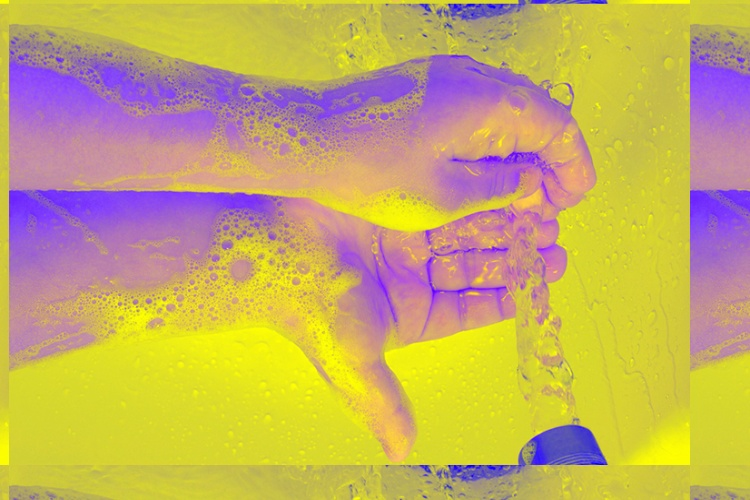washing hand: (111, 43, 660, 451)
